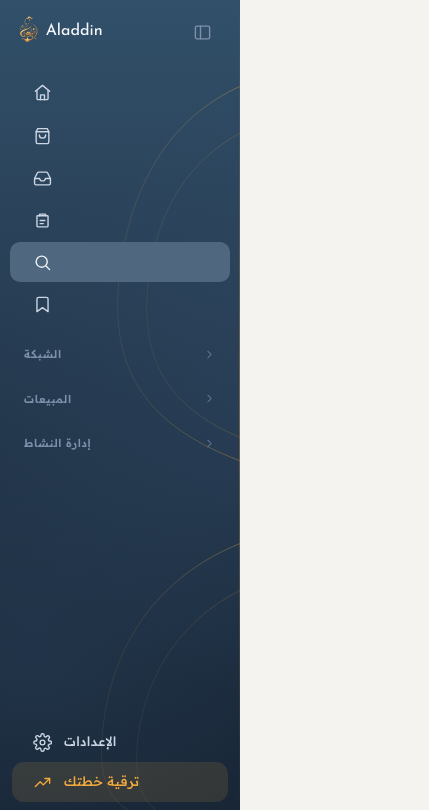
Test: SidebarShell display modes › offers exactly the three documented modes, localized
Focus the button with test id "sidebar-control" at (202, 32), box [184,14,220,50]
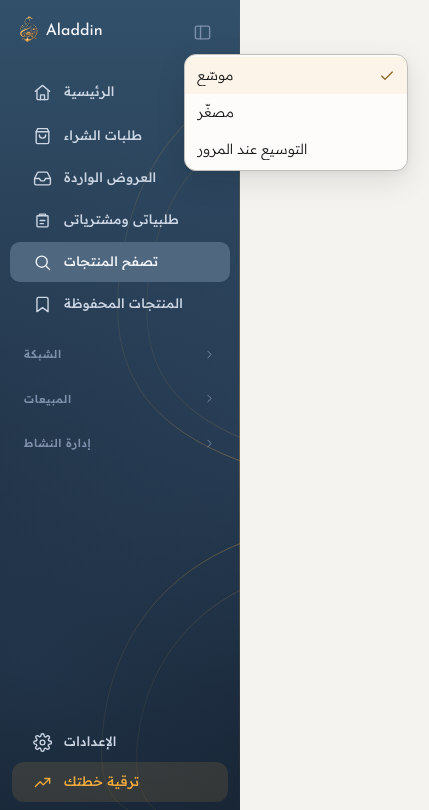
Now the menu items read "موسّع", "مصغّر", "التوسيع عند المرور", in this order, box [185,57,407,94]; [185,94,407,131]; [185,131,407,168]
